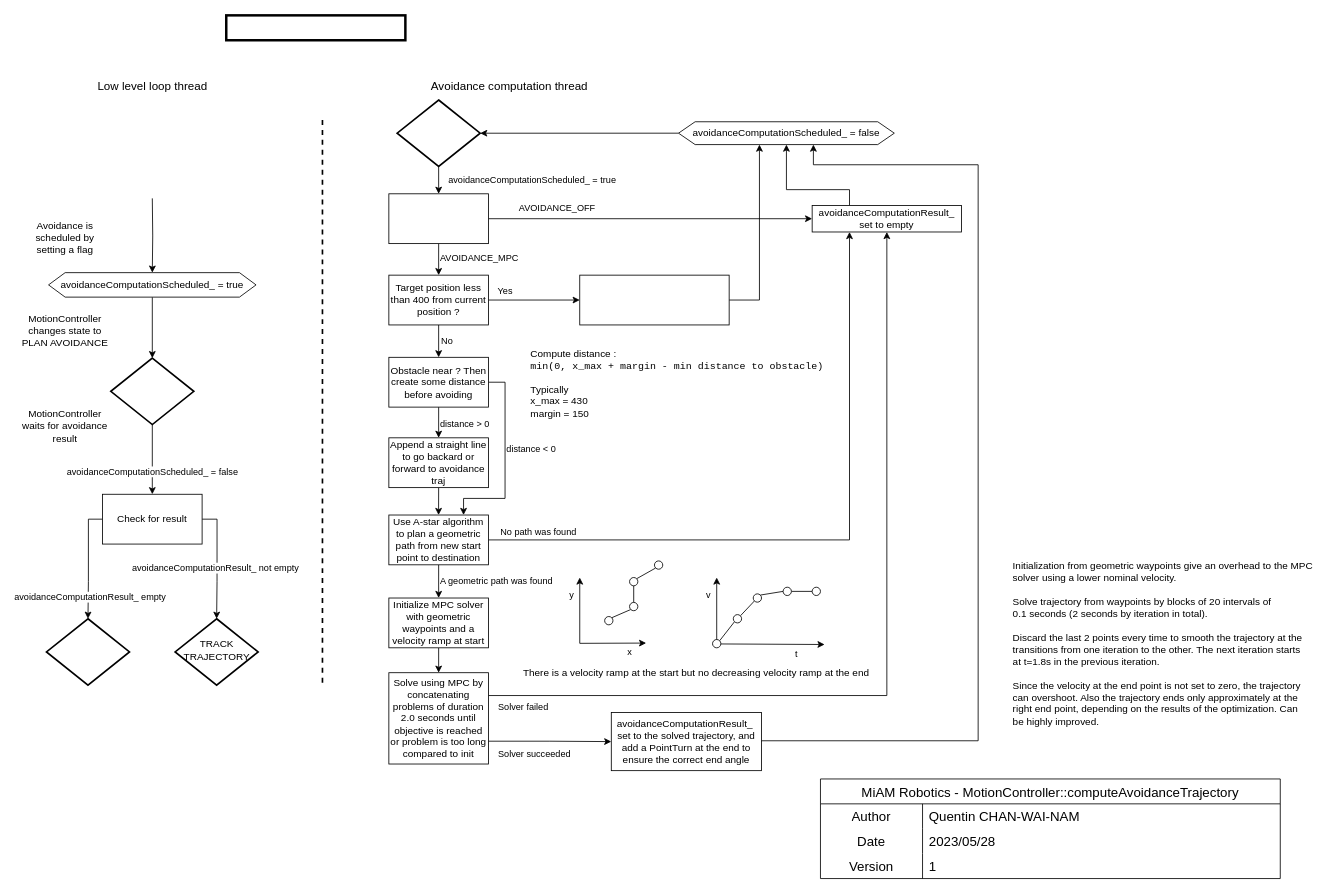
Some shapes in this 1341 by 893 pixel diagram are drawn without their labels. Each missing label, with the centre of its shape:
"avoidanceComputationResult_ set to a StraightLineToPoint followed by a PointTurn" belongs at [654,299].
"Check avoidance mode" belongs at [438,218].
"PLAN AVOIDANCE" belongs at [152,391].
"STOP" belongs at [87,652].
"TIMELINE" belongs at [315,27].
"WAITING" belongs at [438,133].
